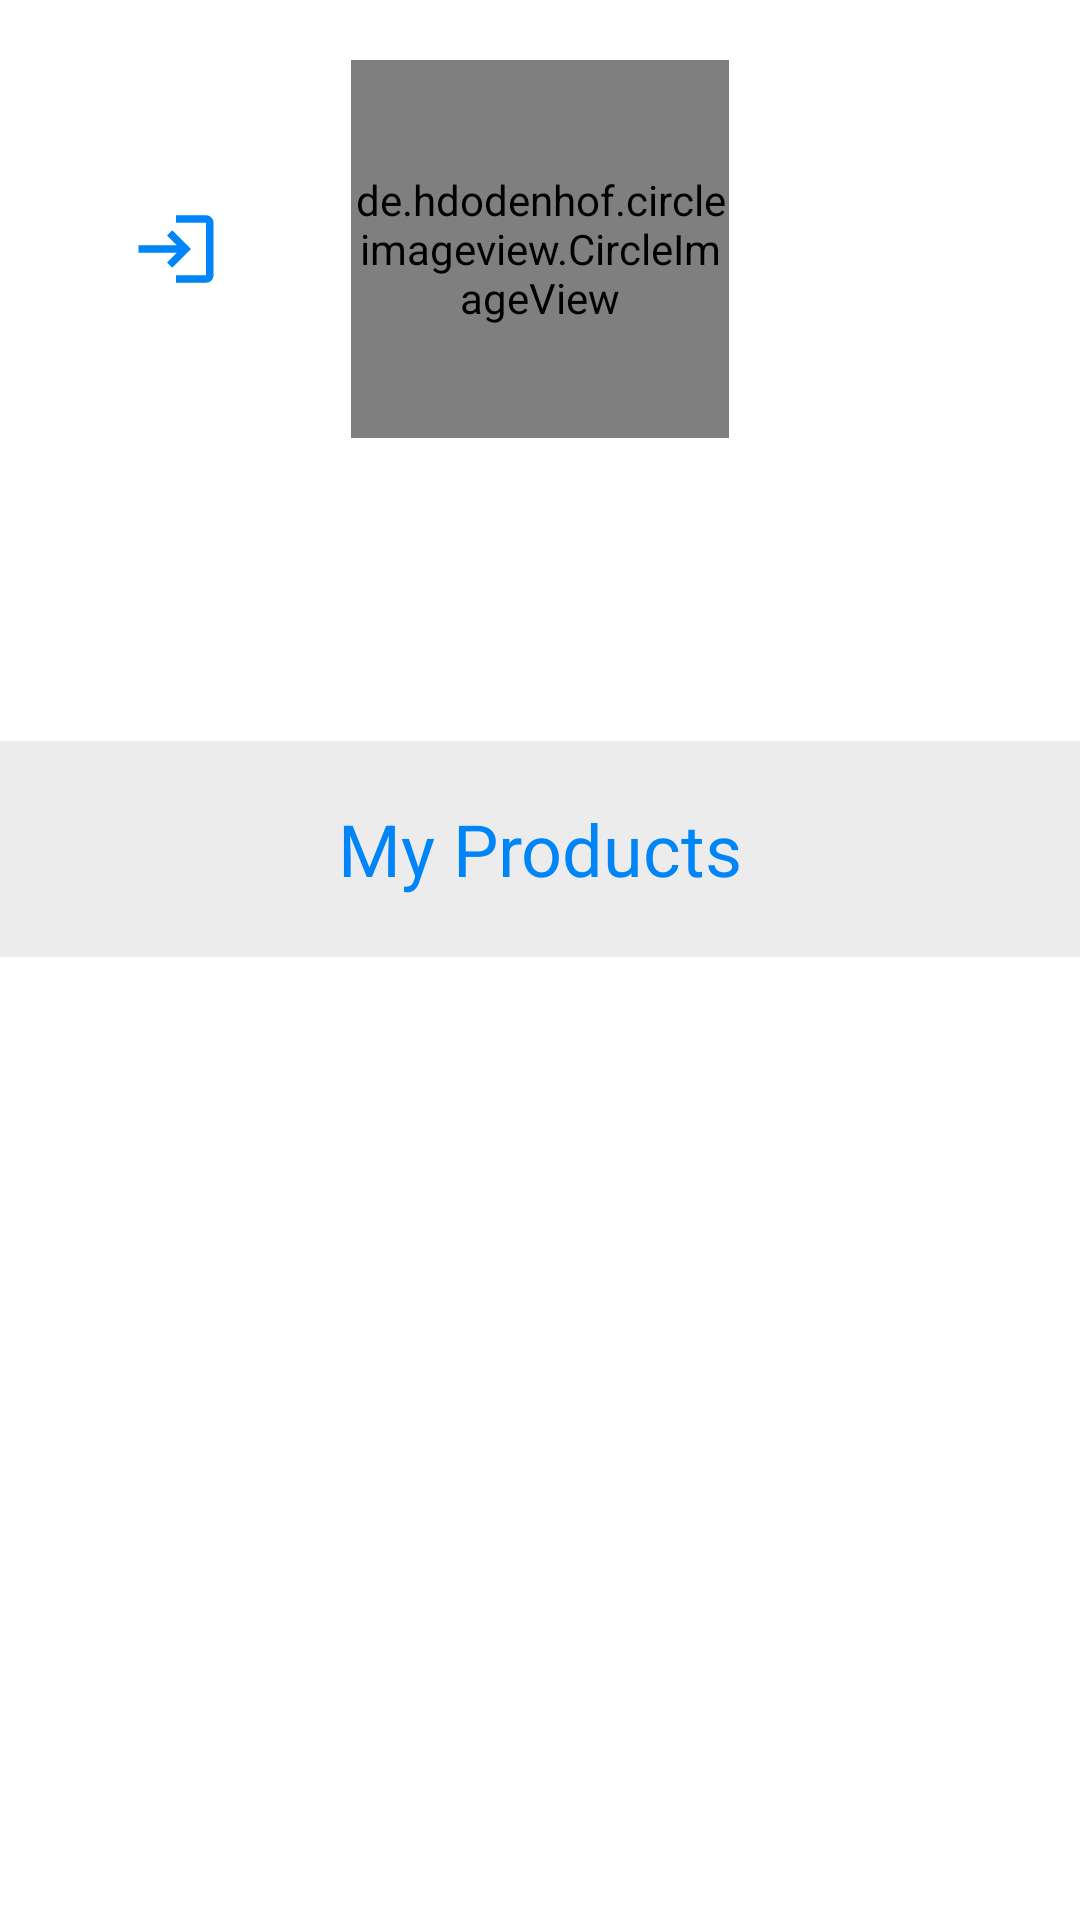

Named icons in this screenshot (1080*1920) and their bounding boxes, (x1, y1, x2, y2):
login: (138, 215, 214, 283)
